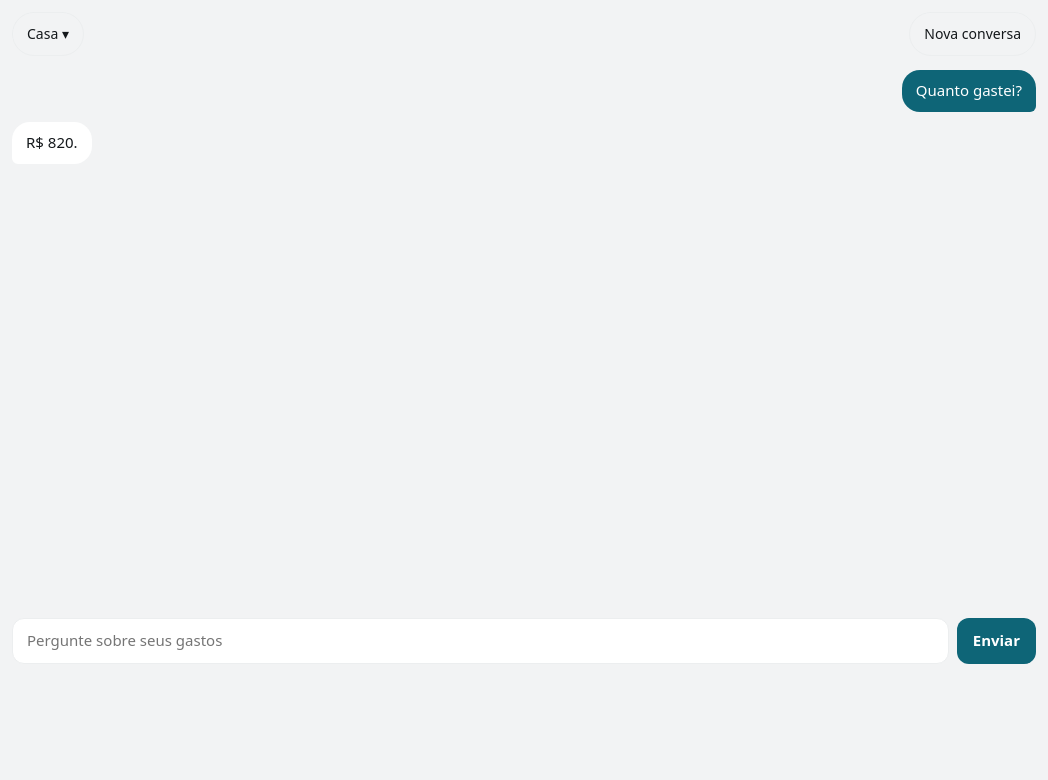
Chat › Nova conversa deletes the thread and clears the screen
The width and height of the screenshot is (1048, 780).
Check: the text "R$ 820." is shown, box [26, 132, 78, 154]
Check: the text "Quanto gastei?" is shown, box [916, 80, 1022, 102]
Click the button "Nova conversa".
click(973, 34)  # box [909, 12, 1036, 56]
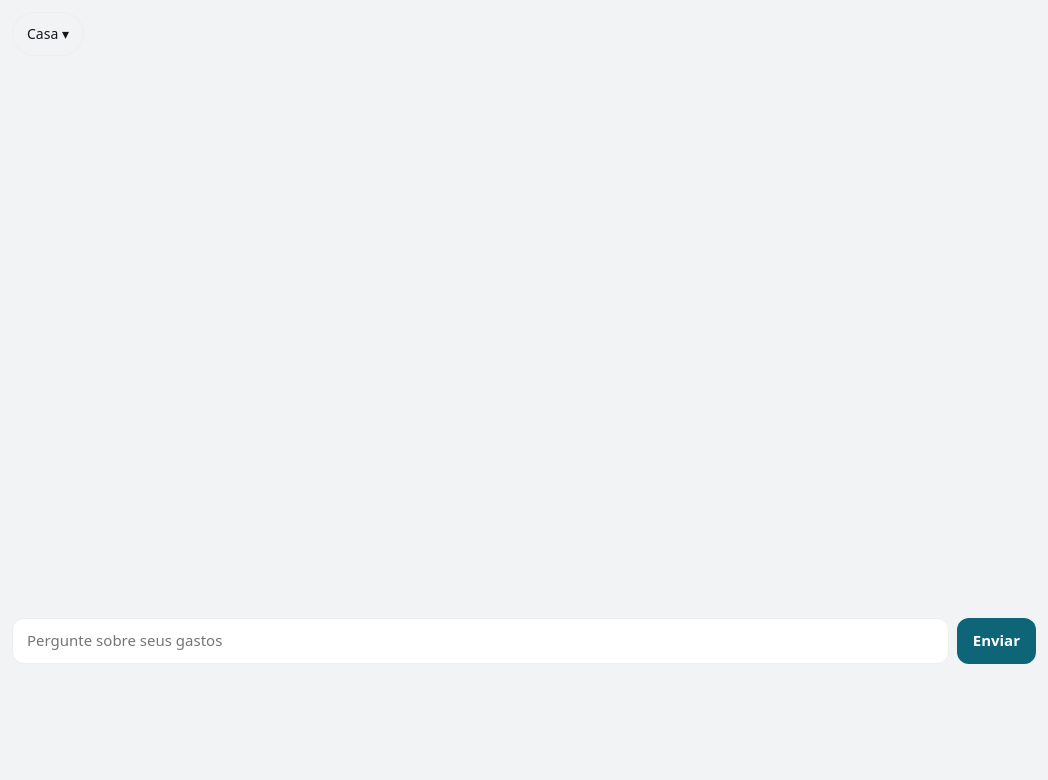
Check: the text "R$ 820." is gone
Check: the text "Quanto gastei?" is gone
